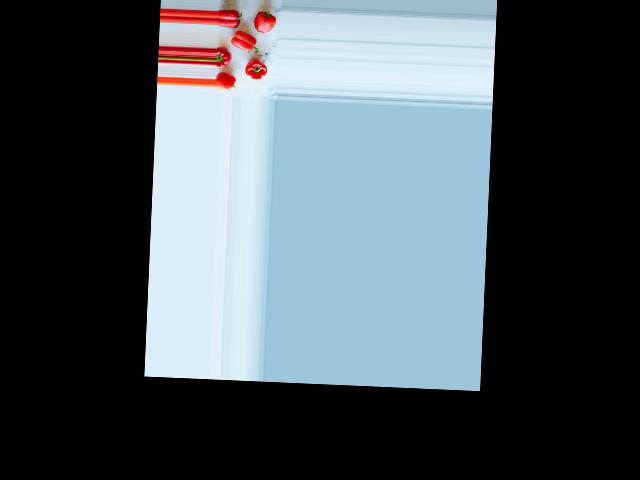bell_pepper: (216, 46, 232, 68)
